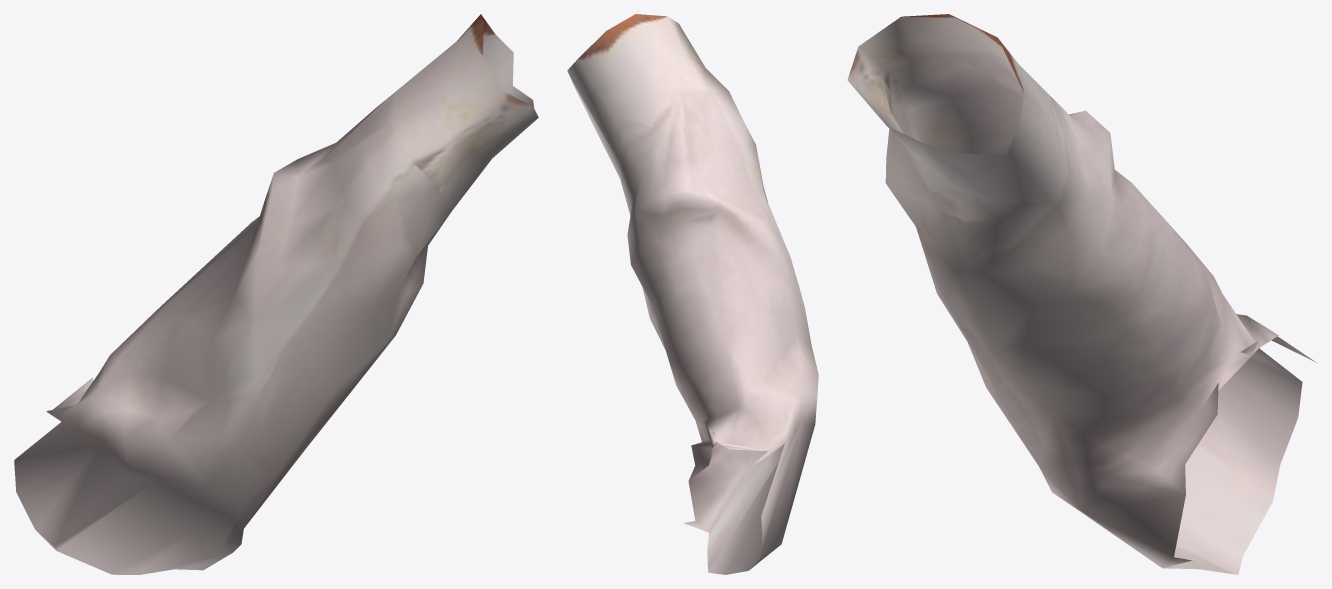
File: antebrazo.obj
3 renders of one model, left to right at view 1: azimuth 30°, elevation 25°; view 2: azimuth 150°, elevation 25°; view 3: azimuth 270°, elevation 25°, orthographic. The views are drawn at different scales.
Parts seen in each view (by area): view 1: antebrazo; view 2: antebrazo; view 3: antebrazo.
Part boxes in pixels (x1,y1,x2,y2): antebrazo: (14,14,538,574); antebrazo: (567,14,818,574); antebrazo: (847,14,1316,574).
Bounding box in the file's own units: 4.01 × 6 × 3.73.
Materials: 1 (1 with a texture image).
